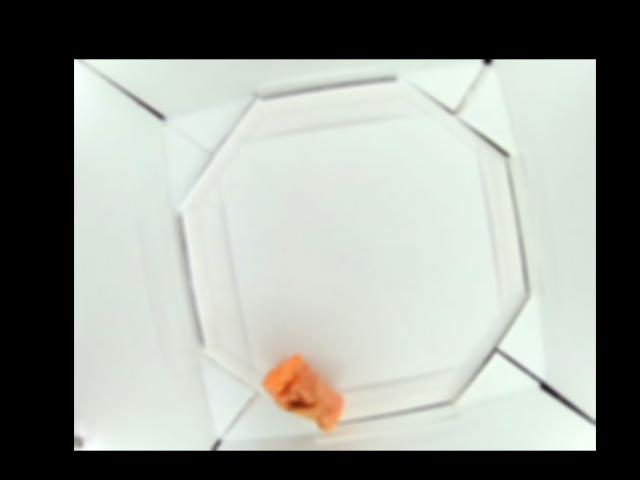Carrot: (261, 354, 342, 430)
